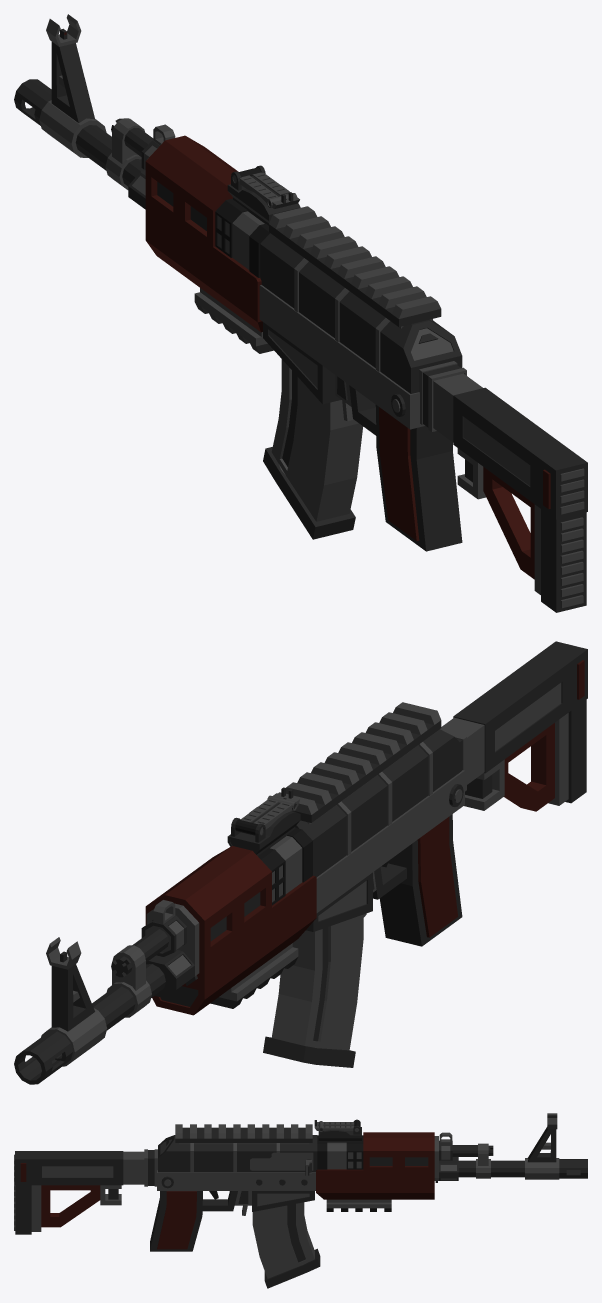
3 views of the same model, one above another, from view 1: azimuth 30°, elevation 25°; view 2: azimuth 150°, elevation 25°; view 3: azimuth 270°, elevation 25° (orthographic). The views are drawn at different scales.
Visible parts, largest first — view 1: AK-556; view 2: AK-556; view 3: AK-556.
Part boxes in pixels (x1,y1,x2,y2): AK-556: [14, 14, 587, 612]; AK-556: [14, 641, 587, 1084]; AK-556: [14, 1113, 587, 1288].
Bounding box in the file's own units: 0.194 × 0.7229 × 2.24.
Materials: 1 (1 with a texture image).
